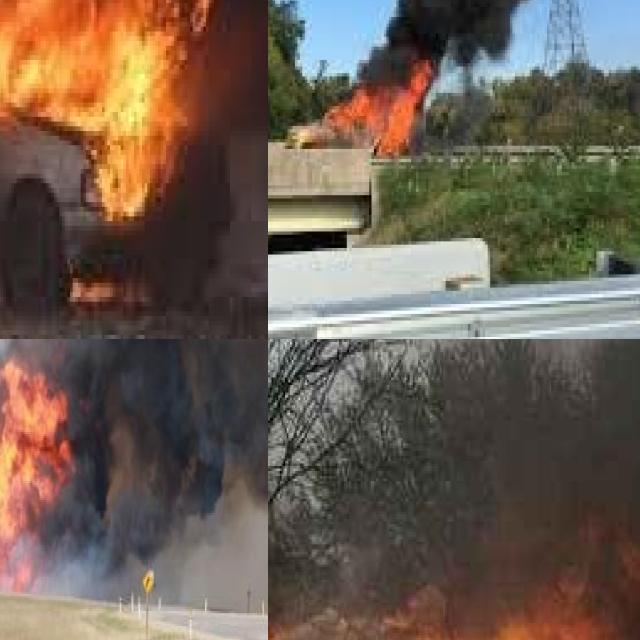fire: (0, 0, 203, 259), (268, 564, 640, 640), (0, 361, 74, 593), (302, 53, 443, 159)
smoke: (0, 339, 268, 585), (446, 339, 640, 564), (351, 0, 640, 86), (176, 0, 268, 126)
